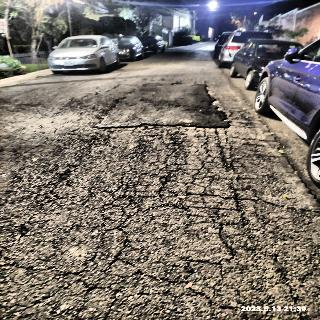alligator-crack: (96, 188, 238, 296), (137, 124, 245, 206)
crack: (4, 135, 74, 253), (254, 119, 318, 195), (19, 267, 106, 320), (251, 179, 320, 225), (277, 248, 306, 315), (97, 137, 136, 173)
